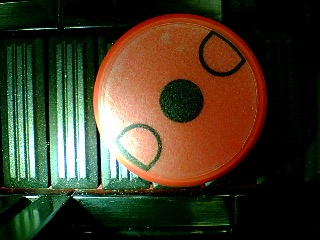BOHOMIPO2: (92, 13, 267, 187)
